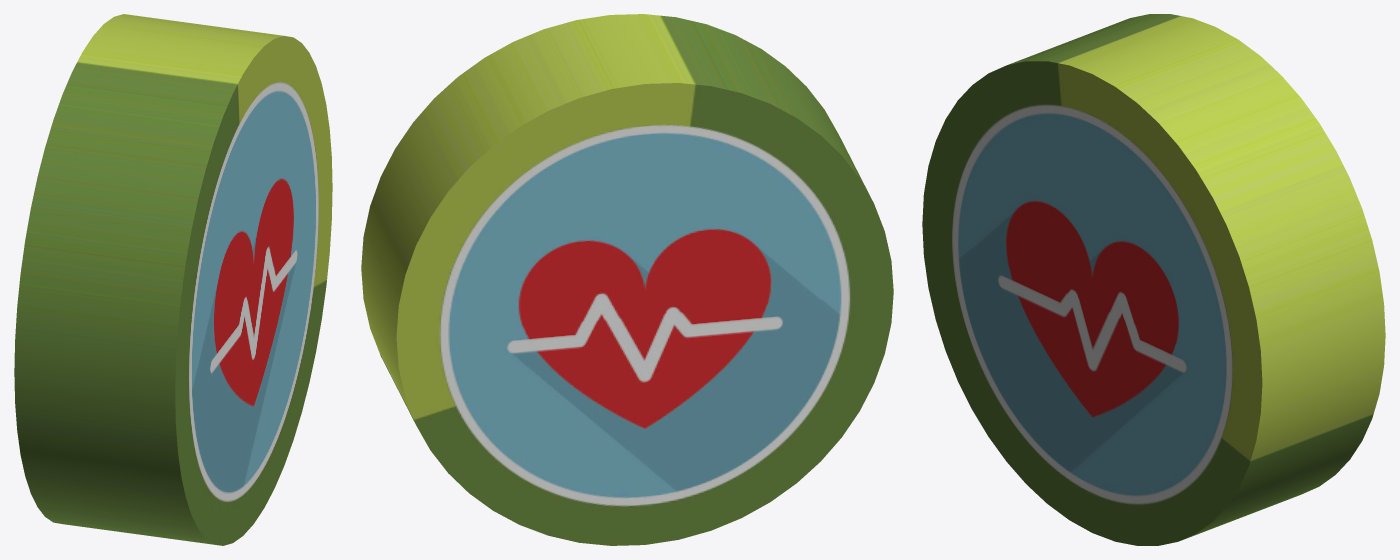
File: HSBC Entorno_10_CAPAS_Cluster Salud.fbx
3 views of the same model, side by side, from view 1: azimuth 30°, elevation 25°; view 2: azimuth 150°, elevation 25°; view 3: azimuth 270°, elevation 25° (orthographic).
Visible parts, largest first — view 1: cilindro corazon.001; view 2: cilindro corazon.001; view 3: cilindro corazon.001.
Boxes of the visible parts, x1,y1,x2,y2 form: cilindro corazon.001: (14, 14, 332, 545); cilindro corazon.001: (361, 14, 893, 545); cilindro corazon.001: (922, 14, 1385, 545).
Bounding box in the file's own units: 248 × 258 × 236.
